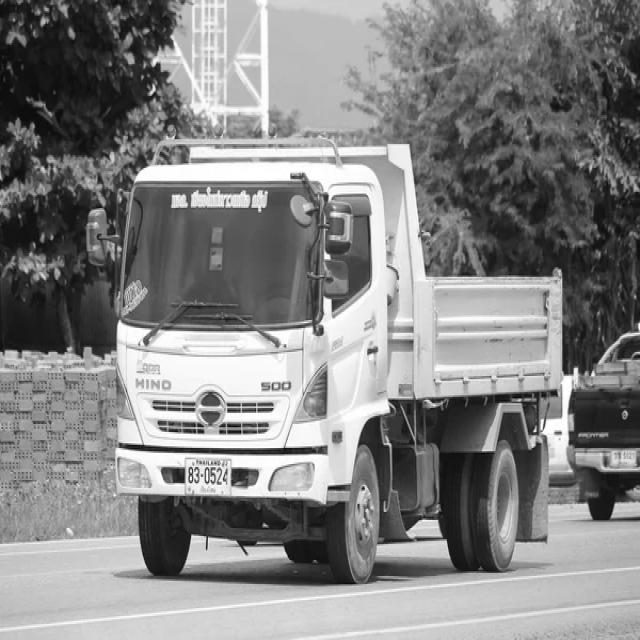Car: (569, 331, 640, 520)
Truck: (115, 139, 562, 583)
